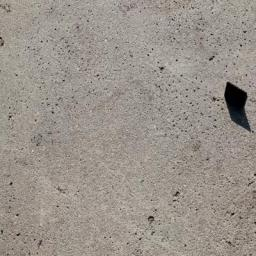FOD: (223, 79, 256, 134)
